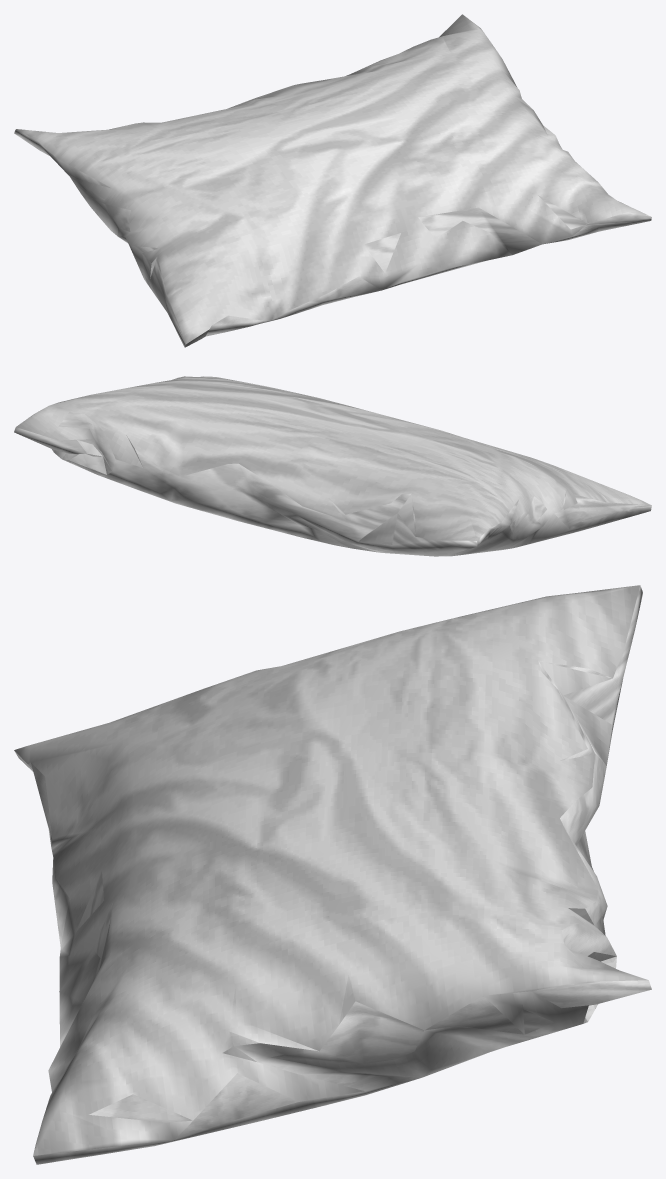
File: Pillow.FBX
3 renders of one model, top to bottom at view 1: azimuth 30°, elevation 25°; view 2: azimuth 150°, elevation 25°; view 3: azimuth 270°, elevation 25°, orthographic. The views are drawn at different scales.
Visible parts, largest first — view 1: Pillow; view 2: Pillow; view 3: Pillow.
Boxes of the visible parts, x1=… form: Pillow: x1=14, y1=14, x2=651, y2=347; Pillow: x1=14, y1=376, x2=651, y2=556; Pillow: x1=14, y1=585, x2=651, y2=1164.
Size of the model in its own units: 596 by 380 by 135.
1 material, 1 textured.
